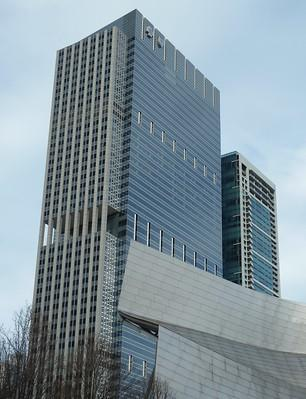building: (22, 5, 228, 399)
